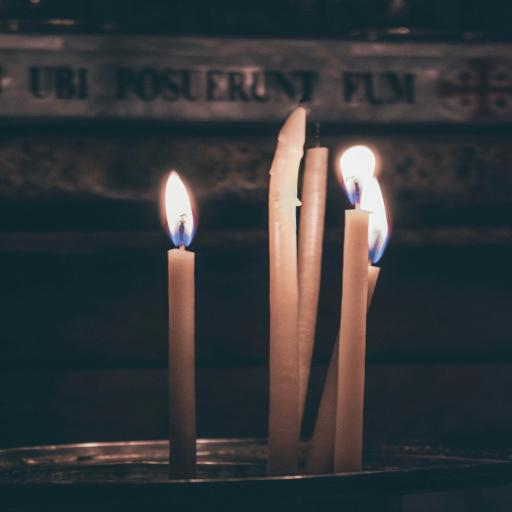candlelight: (124, 150, 229, 464), (312, 143, 382, 512)
